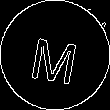M_N: (28, 26, 82, 84)
